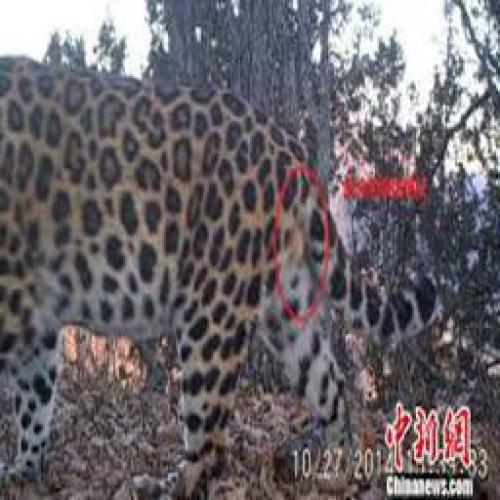amur_leopard-endangered: (0, 57, 438, 486)
